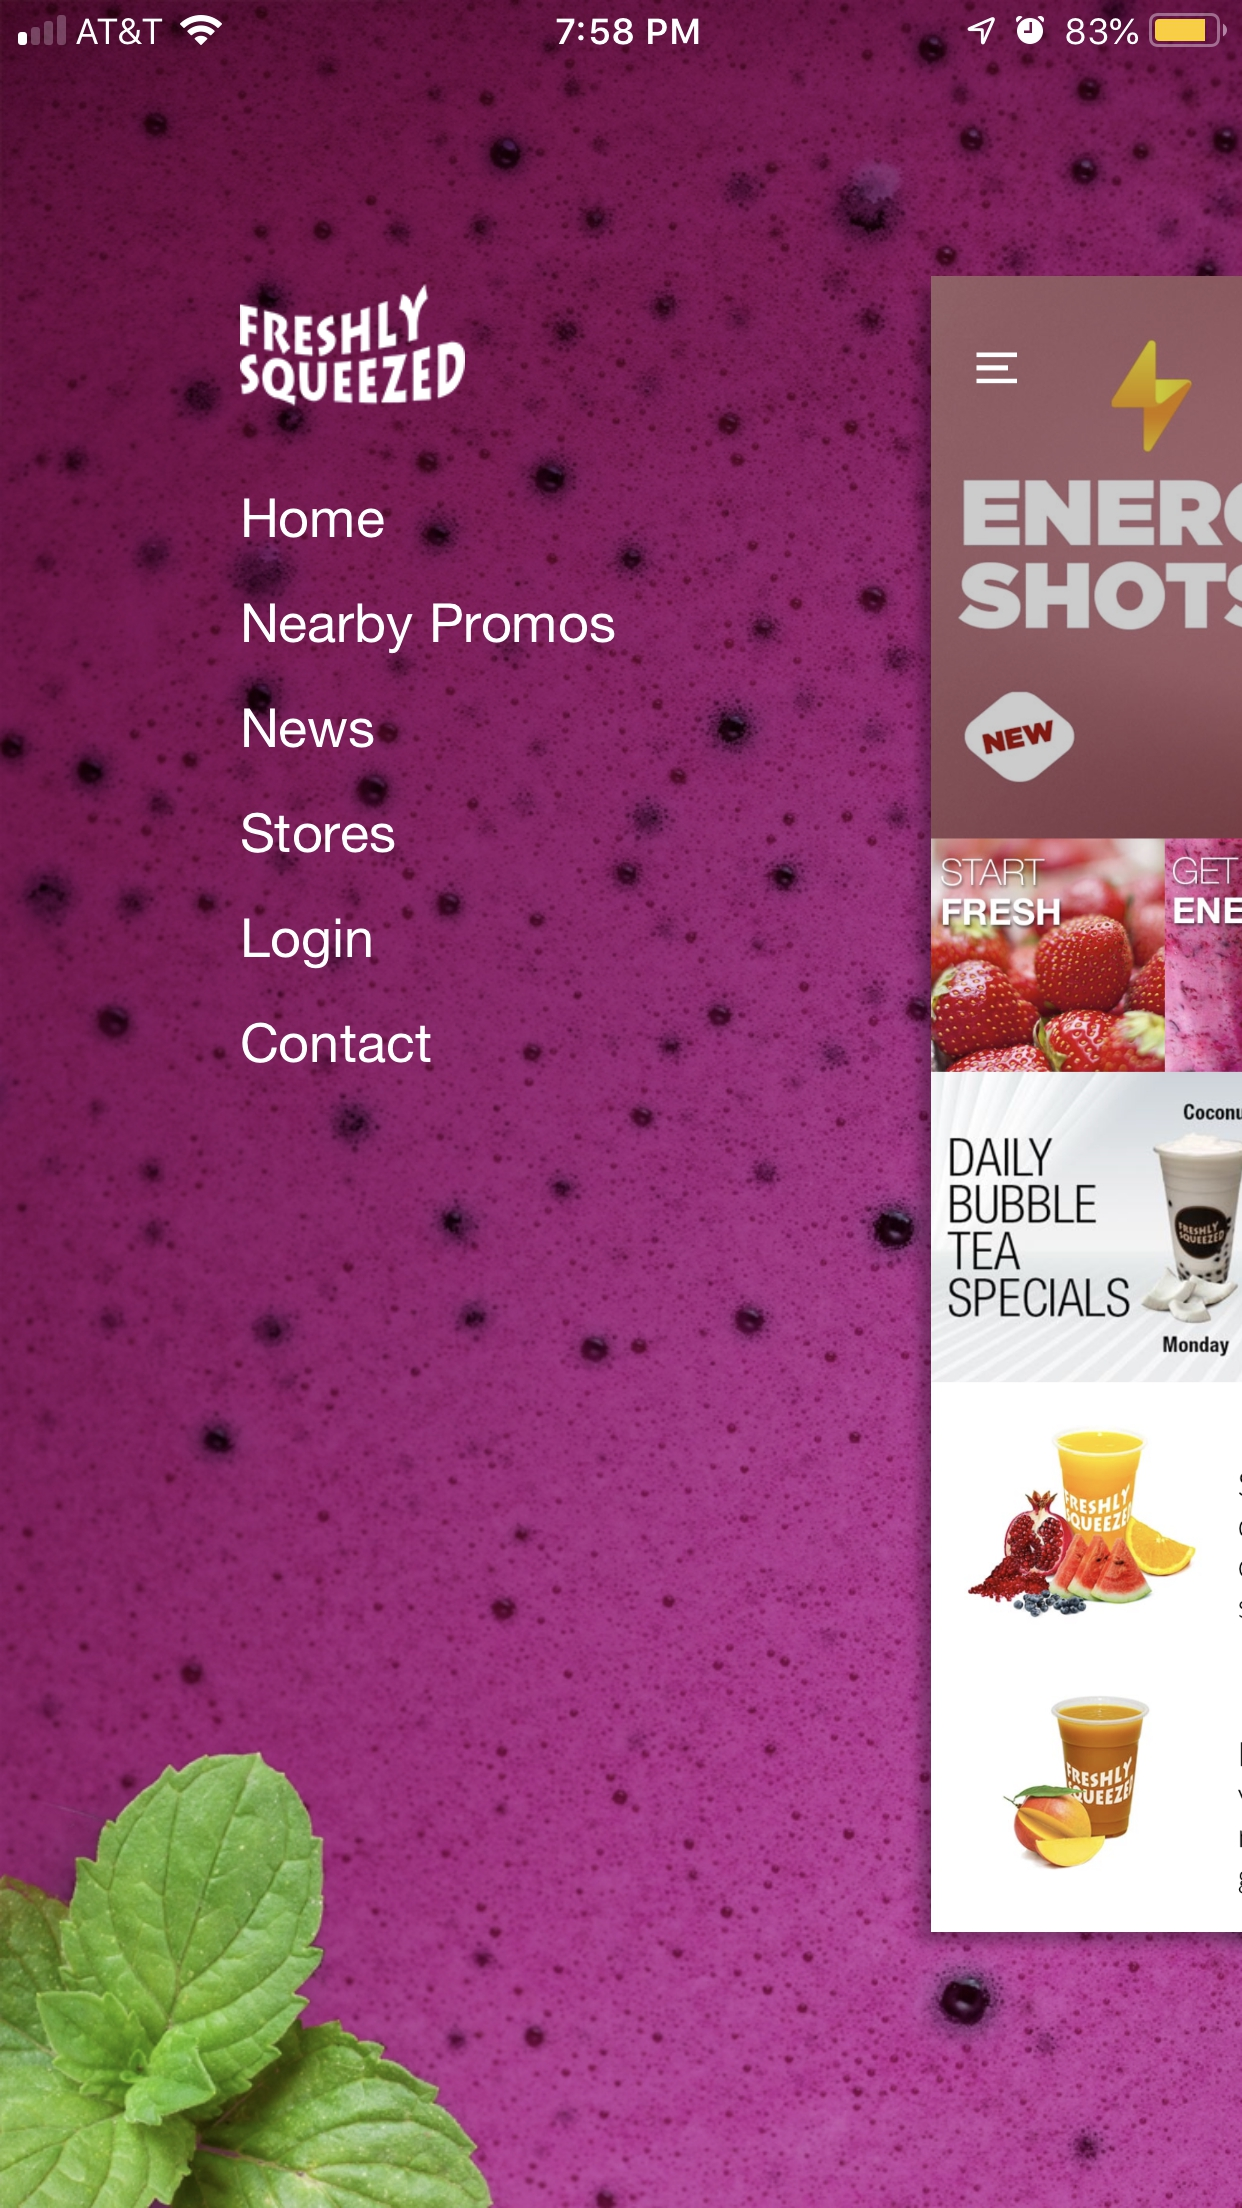BackgroundImage: (2, 49, 1242, 2208)
Icon: (974, 350, 1018, 385)
Image: (930, 278, 1242, 1934), (240, 284, 467, 406)
Text: (244, 604, 616, 655), (243, 1022, 434, 1065), (244, 917, 373, 971), (243, 811, 396, 855), (244, 497, 387, 540), (244, 708, 375, 751)
UpperTaskBar: (2, 2, 1242, 49)
